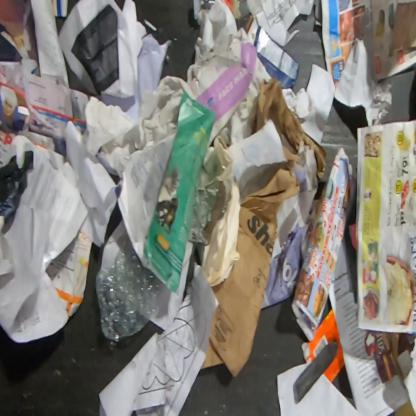cardboard: (42, 228, 92, 318), (244, 12, 301, 90)
rigid_plastic: (96, 239, 168, 341), (187, 178, 226, 245), (192, 0, 270, 21)
